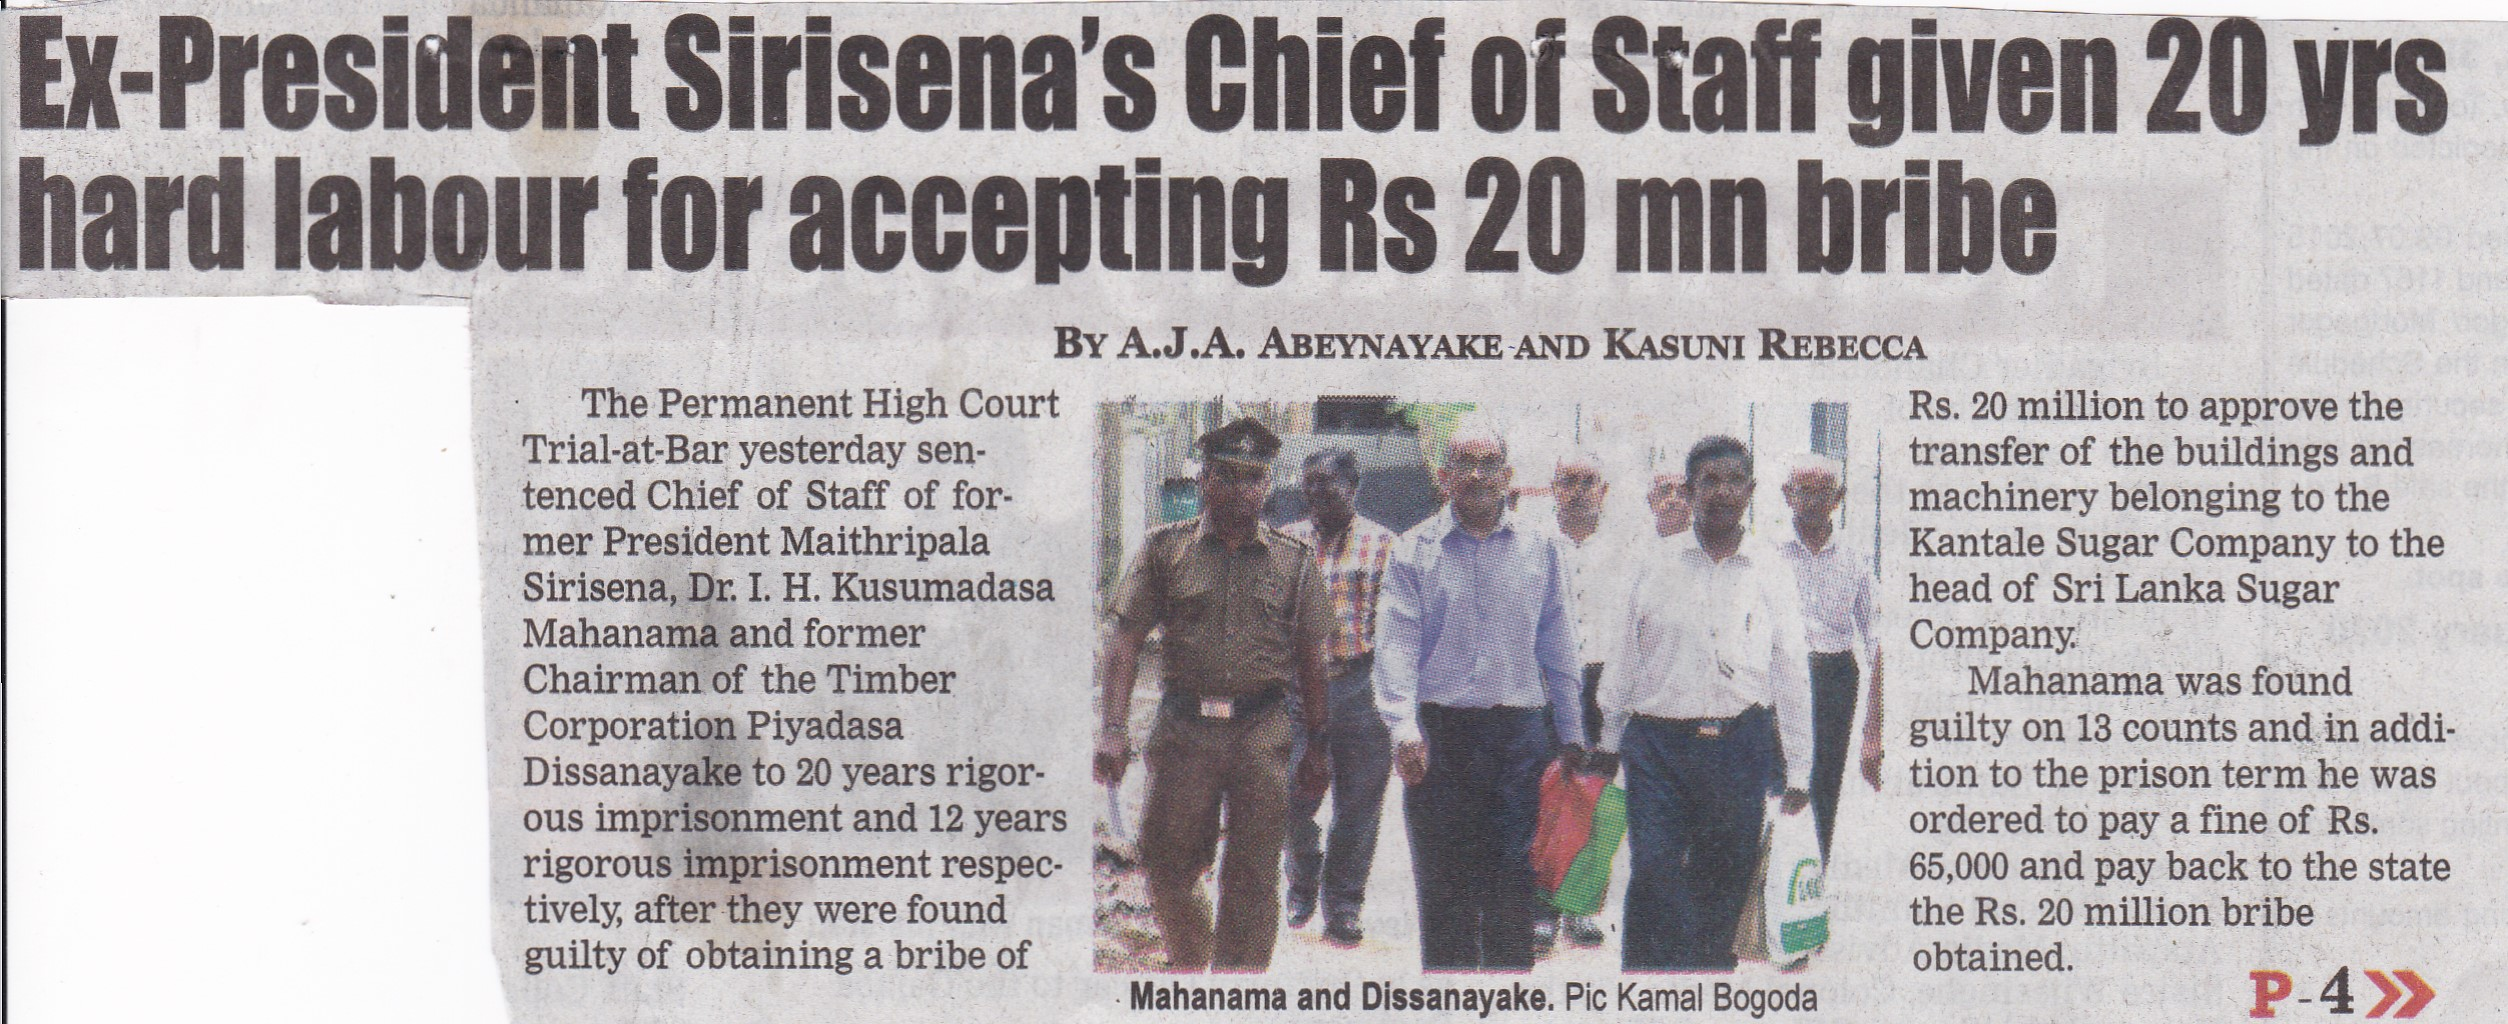news_paper: (2, 5, 2497, 1024)
